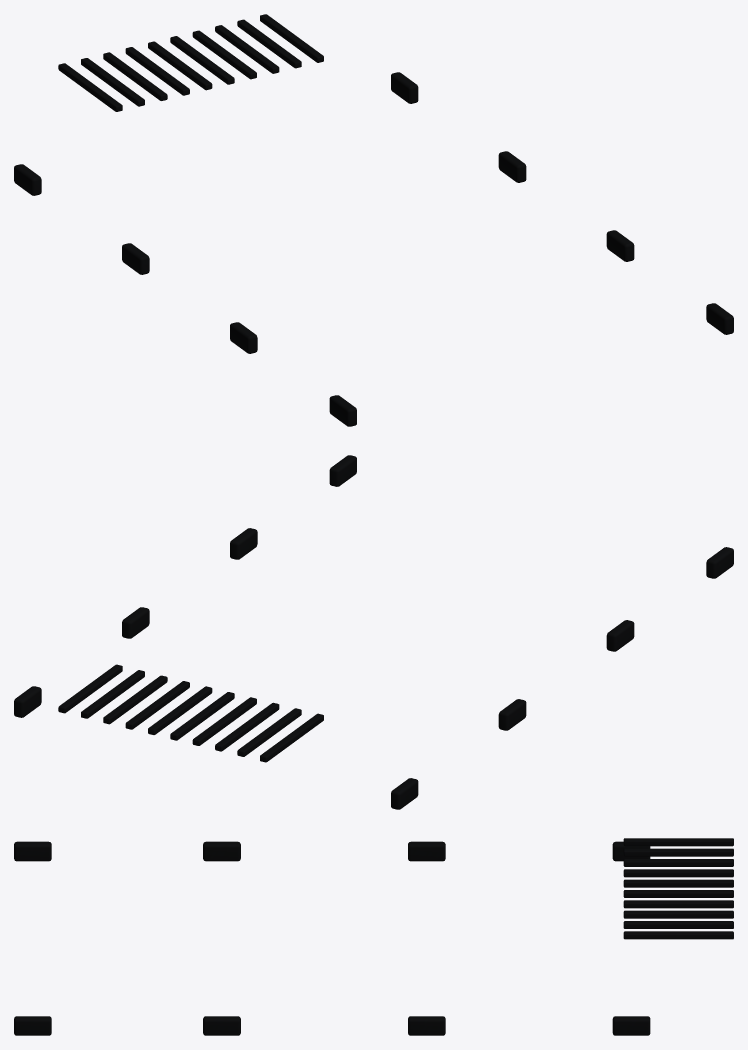
3 views of the same model, one above another, from view 1: azimuth 30°, elevation 25°; view 2: azimuth 150°, elevation 25°; view 3: azimuth 270°, elevation 25° (orthographic). The views are drawn at different scales.
Bounding box in the file's own units: 2.69 × 0.43 × 4.57.
1 material, 1 textured.
